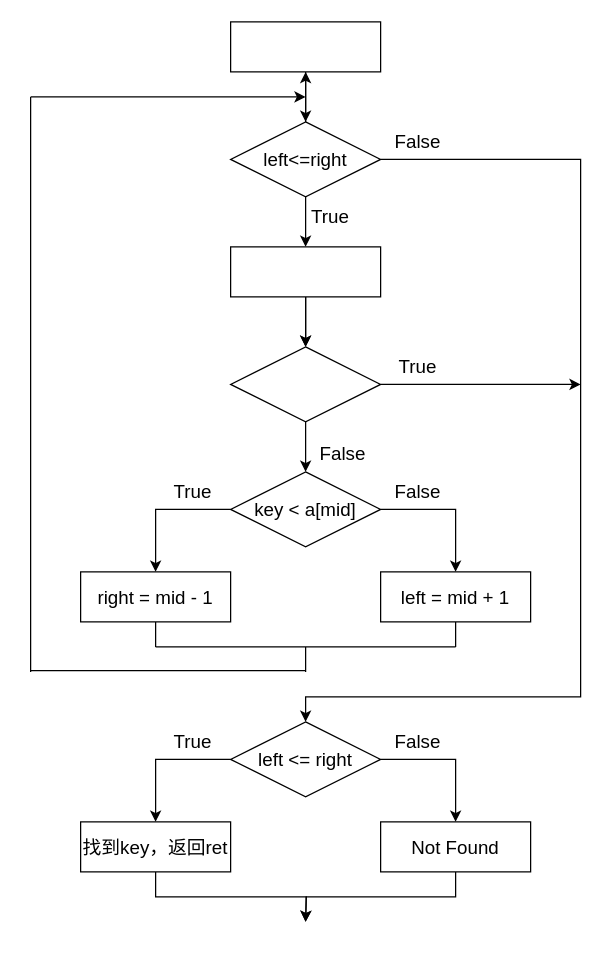
Image size: 613x954. Some labels were removed from this diagram. The shapes that lost their labels are listed below. From the top down, each one's centre as x and y in pixels, then its label:
(x=305, y=46): left = 0 right = len - 1
(x=305, y=271): mid=(left+right)/ 2
(x=305, y=384): key == a[mid]
